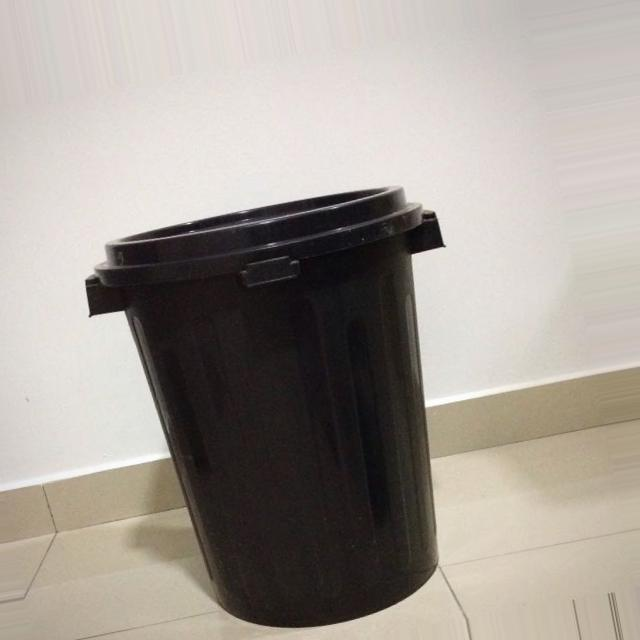Bote de Basura: (91, 198, 465, 635)
